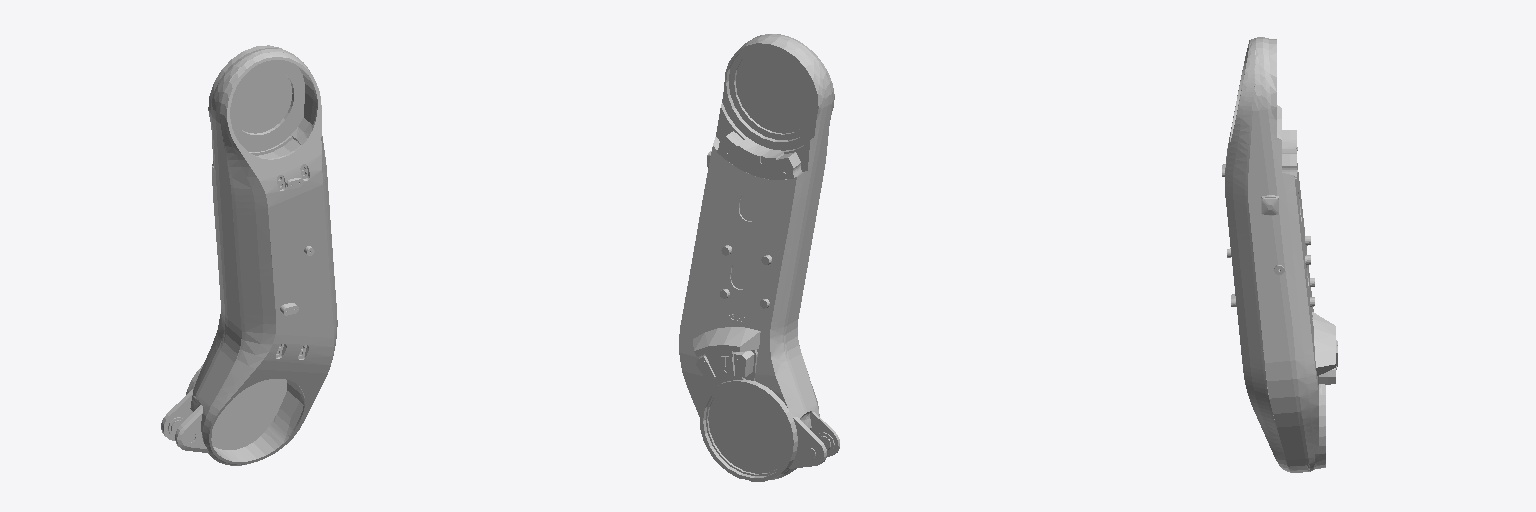
3 views of the same model, side by side, from view 1: azimuth 30°, elevation 25°; view 2: azimuth 150°, elevation 25°; view 3: azimuth 270°, elevation 25° (orthographic).
Visible parts, largest first — view 1: LINK_02 rawMesh; view 2: LINK_02 rawMesh; view 3: LINK_02 rawMesh.
Boxes of the visible parts, x1=… form: LINK_02 rawMesh: x1=161, y1=45, x2=337, y2=465; LINK_02 rawMesh: x1=679, y1=34, x2=839, y2=481; LINK_02 rawMesh: x1=1222, y1=37, x2=1337, y2=472.
Size of the model in its own units: 56.87 by 153 by 37.6.